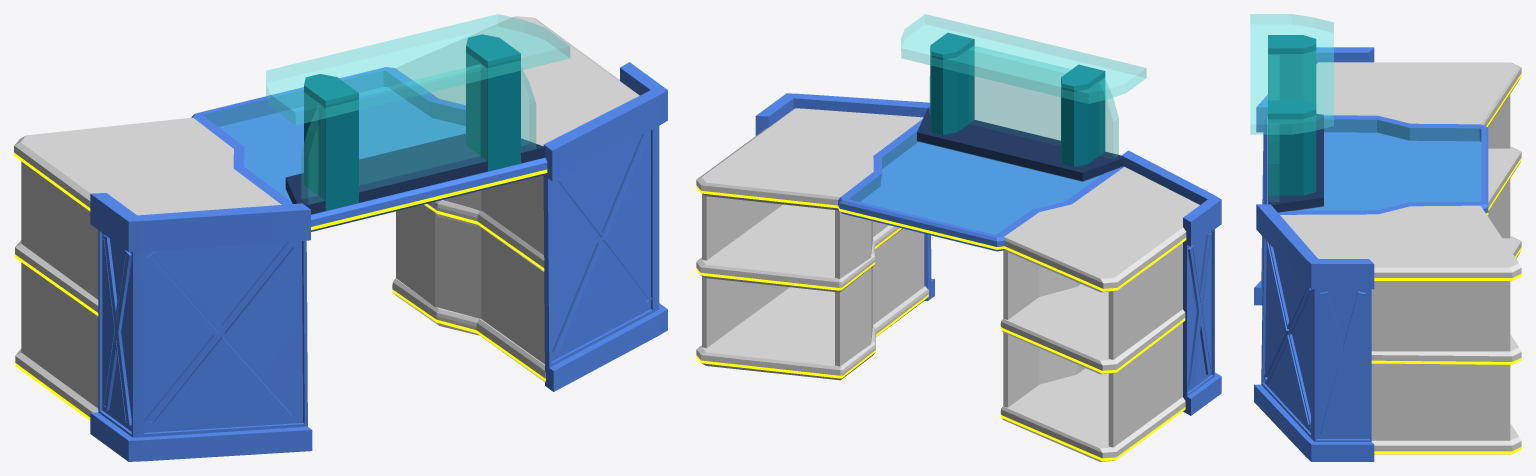
Rendered from table_tier20.fbx.
3 views of the same model, side by side, from view 1: azimuth 30°, elevation 25°; view 2: azimuth 150°, elevation 25°; view 3: azimuth 270°, elevation 25° (orthographic). The views are drawn at different scales.
Parts seen in each view (by area): view 1: Cube.014, Cube.005, Cube.010, Cube.006, Cube.002, Cube.001, Cube.004, Cube.003, Cube.008, Cube.007, Cube.012, Cube.013 (+1 smaller); view 2: Cube.005, Cube.014, Cube.006, Cube.001, Cube.007, Cube.012, Cube.010, Cube.002, Cube.009, Cube.013, Cube, Cube.011 (+3 smaller); view 3: Cube.005, Cube.014, Cube, Cube.006, Cube.003, Cube.004, Cube.007, Cube.012, Cube.001, Cube.008, Cube.013, Cube.002.
Part boxes in pixels (<box>): Cube.014: <box>90,62,667,461</box>; Cube.005: <box>14,16,639,231</box>; Cube.010: <box>396,175,544,364</box>; Cube.006: <box>266,14,569,124</box>; Cube.002: <box>301,64,535,204</box>; Cube.001: <box>21,161,98,408</box>; Cube.004: <box>304,74,358,210</box>; Cube.003: <box>466,34,520,171</box>; Cube.008: <box>285,133,545,214</box>; Cube.007: <box>392,278,545,381</box>; Cube.012: <box>424,200,544,271</box>; Cube.013: <box>15,240,98,315</box>; Cube.005: <box>696,108,1199,292</box>; Cube.014: <box>755,93,1221,415</box>; Cube.006: <box>901,14,1146,103</box>; Cube.001: <box>1108,243,1182,447</box>; Cube.007: <box>696,286,928,380</box>; Cube.012: <box>696,204,902,292</box>; Cube.010: <box>835,210,924,366</box>; Cube.002: <box>929,46,1118,158</box>; Cube.009: <box>1000,368,1185,461</box>; Cube.013: <box>1000,284,1185,374</box>; Cube: <box>702,194,789,348</box>; Cube.011: <box>1003,250,1085,407</box>; Cube.005: <box>1264,62,1521,281</box>; Cube.014: <box>1254,47,1374,461</box>; Cube: <box>1371,281,1510,440</box>; Cube.006: <box>1250,14,1333,134</box>; Cube.003: <box>1268,100,1316,195</box>; Cube.004: <box>1268,35,1316,103</box>; Cube.007: <box>1371,423,1521,454</box>; Cube.012: <box>1371,334,1521,365</box>; Cube.001: <box>1488,94,1510,238</box>; Cube.008: <box>1268,114,1323,212</box>; Cube.013: <box>1488,146,1521,210</box>; Cube.002: <box>1268,134,1279,201</box>.
Size of the model in its own units: 232 by 141 by 123.
